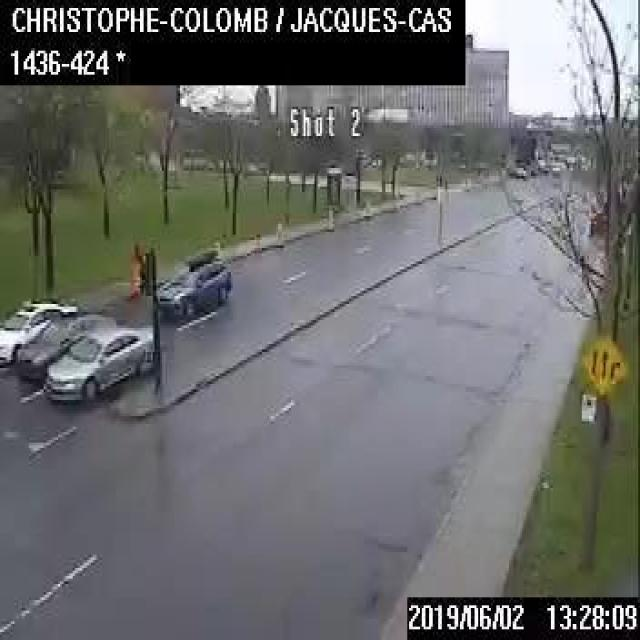construction: (129, 259, 138, 296), (325, 206, 333, 230), (276, 222, 284, 246), (213, 240, 220, 256)
vehicle: (42, 322, 152, 401), (15, 310, 115, 380), (154, 246, 231, 317), (0, 296, 78, 363)
